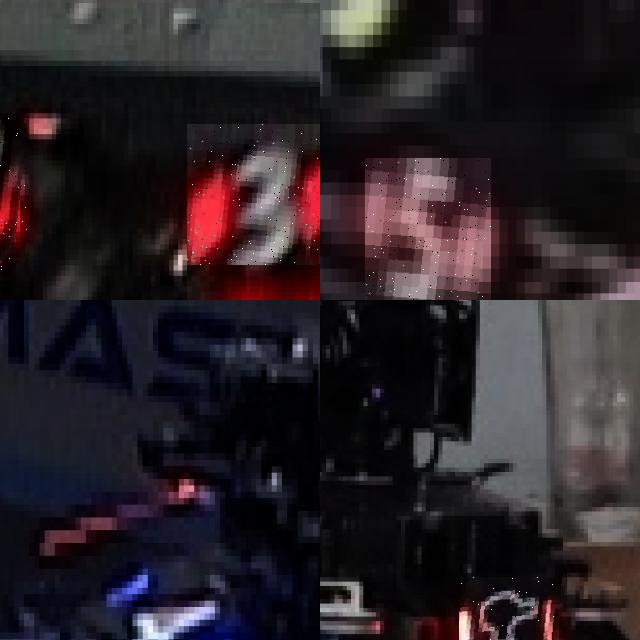R3: (186, 123, 320, 265), (0, 118, 29, 270)
R5: (364, 158, 491, 300)
Rs: (459, 577, 567, 640)
